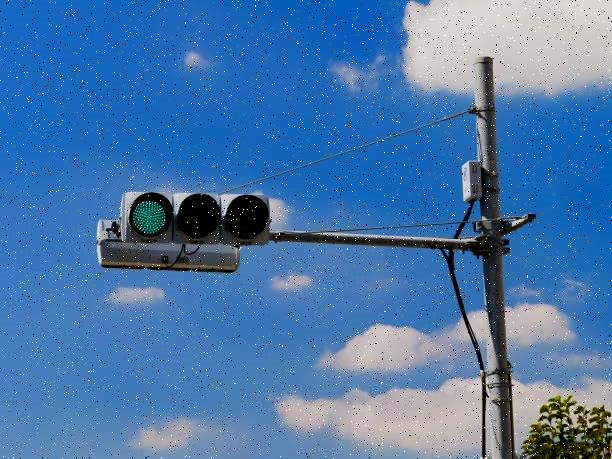cars: (120, 188, 271, 245)
